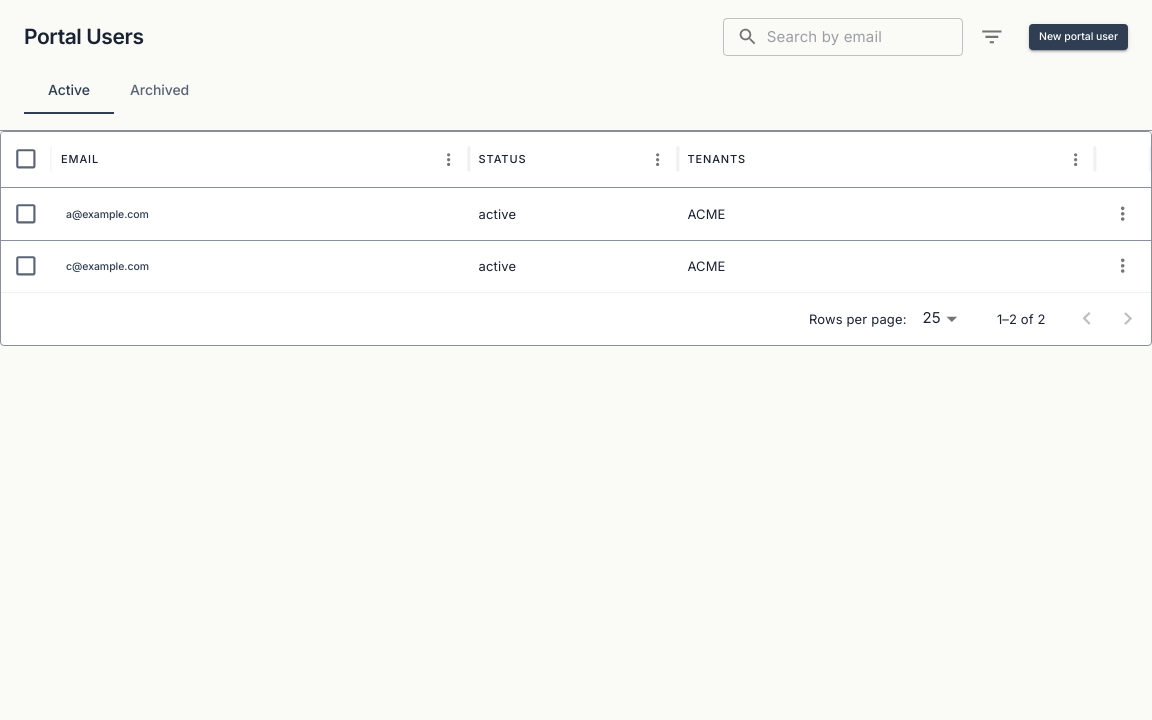
it: PortalUsersPage › lists each user a bulk archive refused, by email
Expected: the button "c@example.com" is shown, [61,254,154,280]
Click the checkbox named "select row".
click(26, 214)  # box [13,201,39,227]
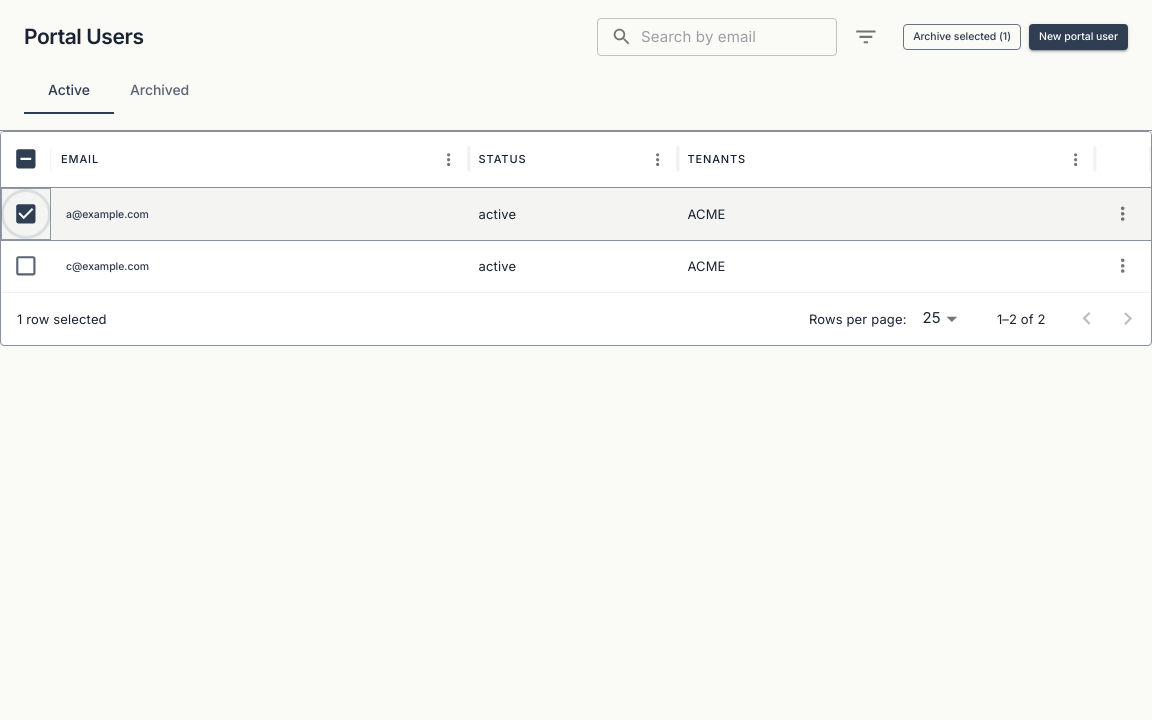
Click the checkbox named "select row".
click(26, 266)  # box [13,253,39,279]
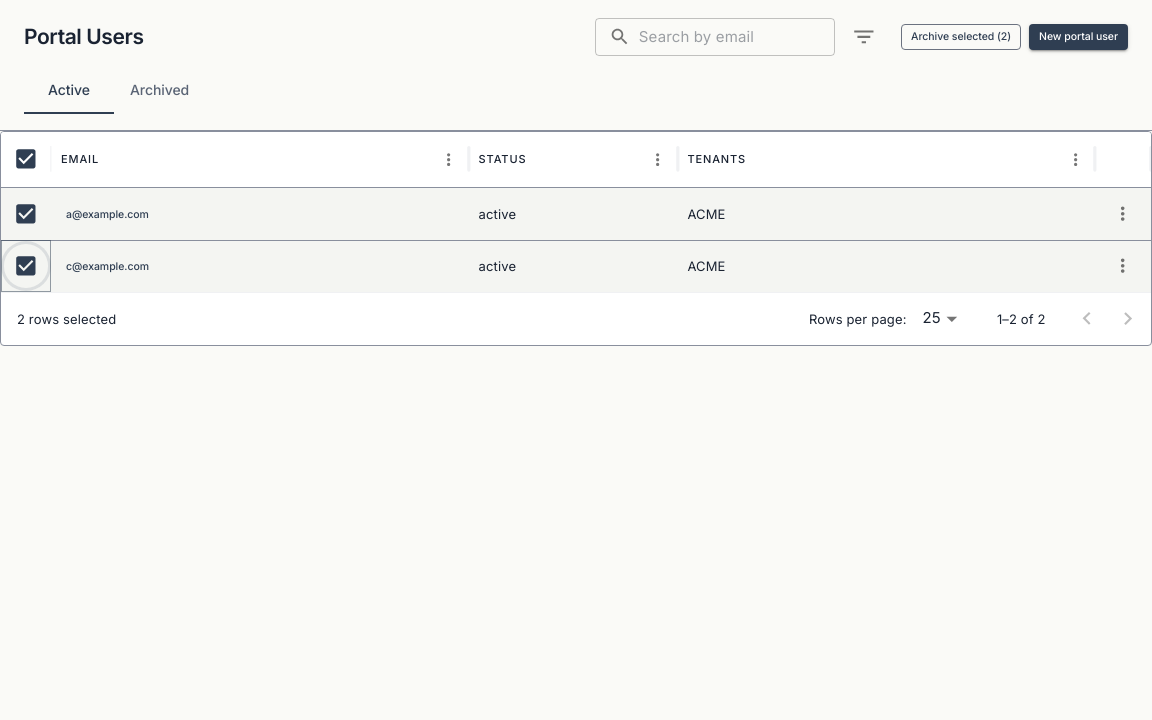
Click the button "Archive selected (2)".
click(961, 37)  # box [901,24,1021,50]
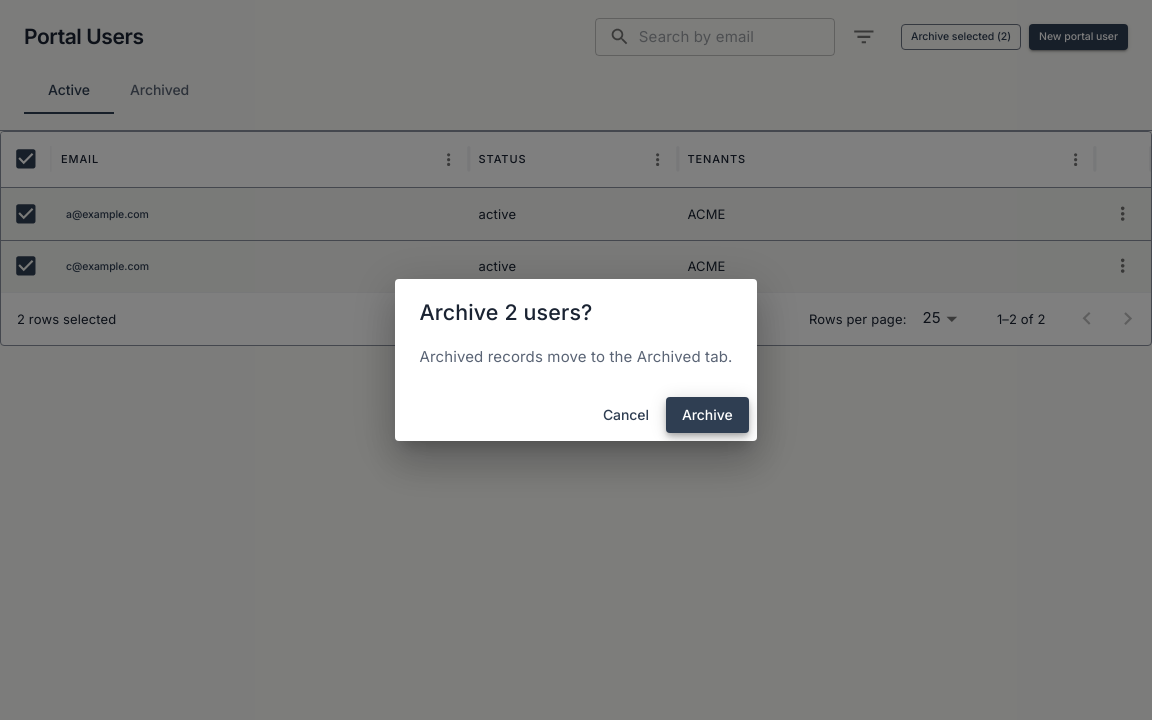
Click the button "Archive".
click(707, 415)  # box [666,396,748,433]
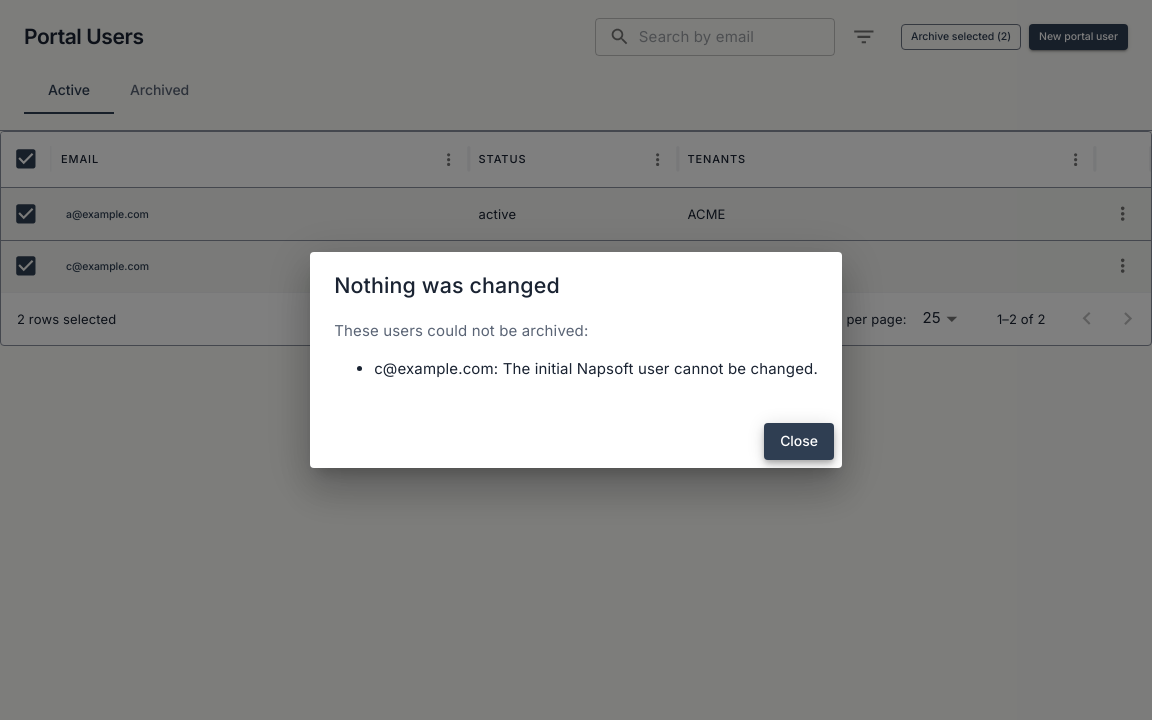
Result: the list item "c@example.com: The initial Napsoft user cannot be changed." is shown at [374,357,818,380]
